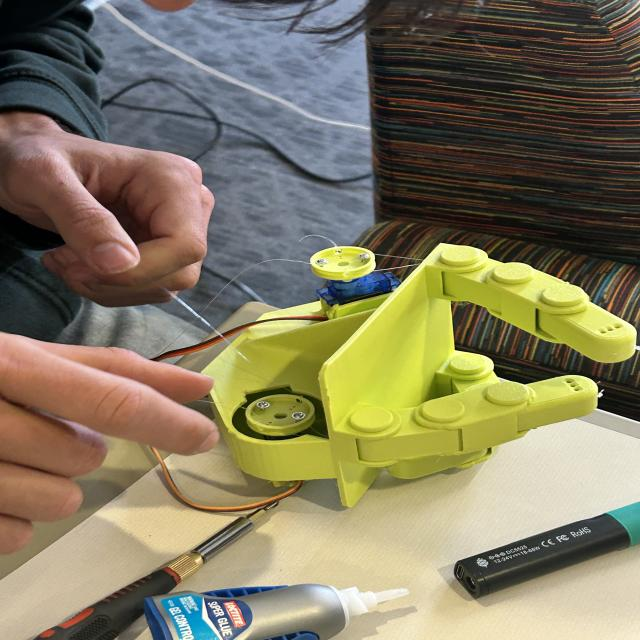prosthetic: (216, 244, 637, 509)
